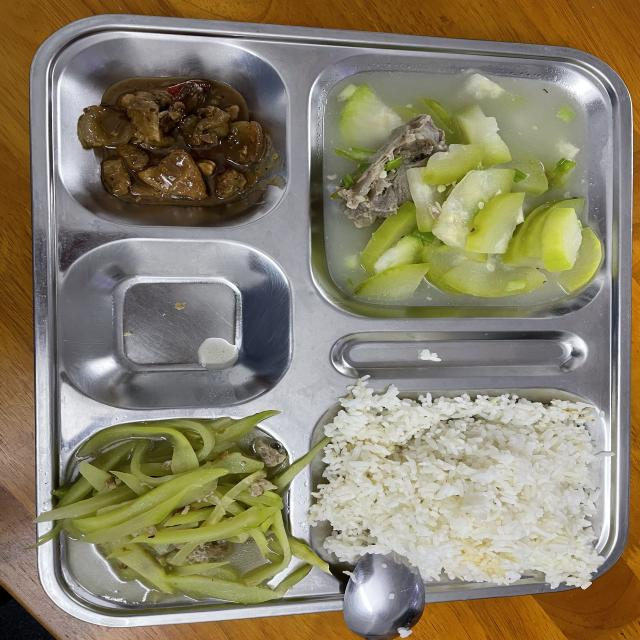canh bau: (323, 71, 601, 307)
com: (309, 380, 600, 588)
rau: (34, 410, 330, 604)
